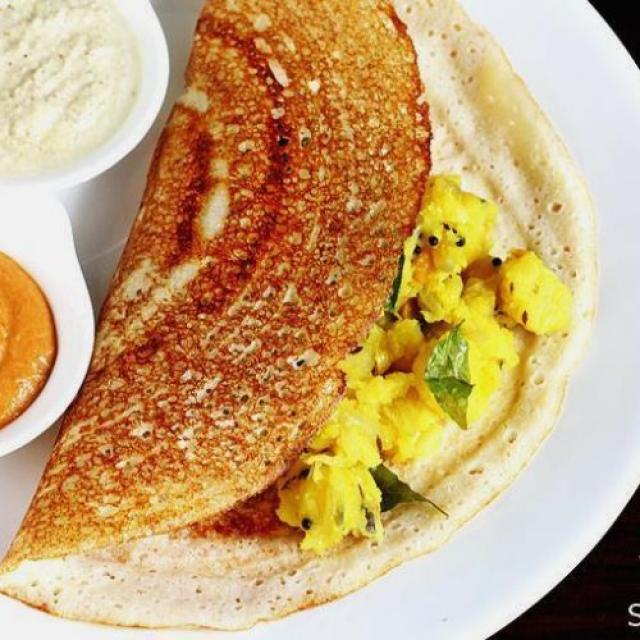chutney: (0, 0, 165, 179)
dosa: (2, 0, 600, 621)
